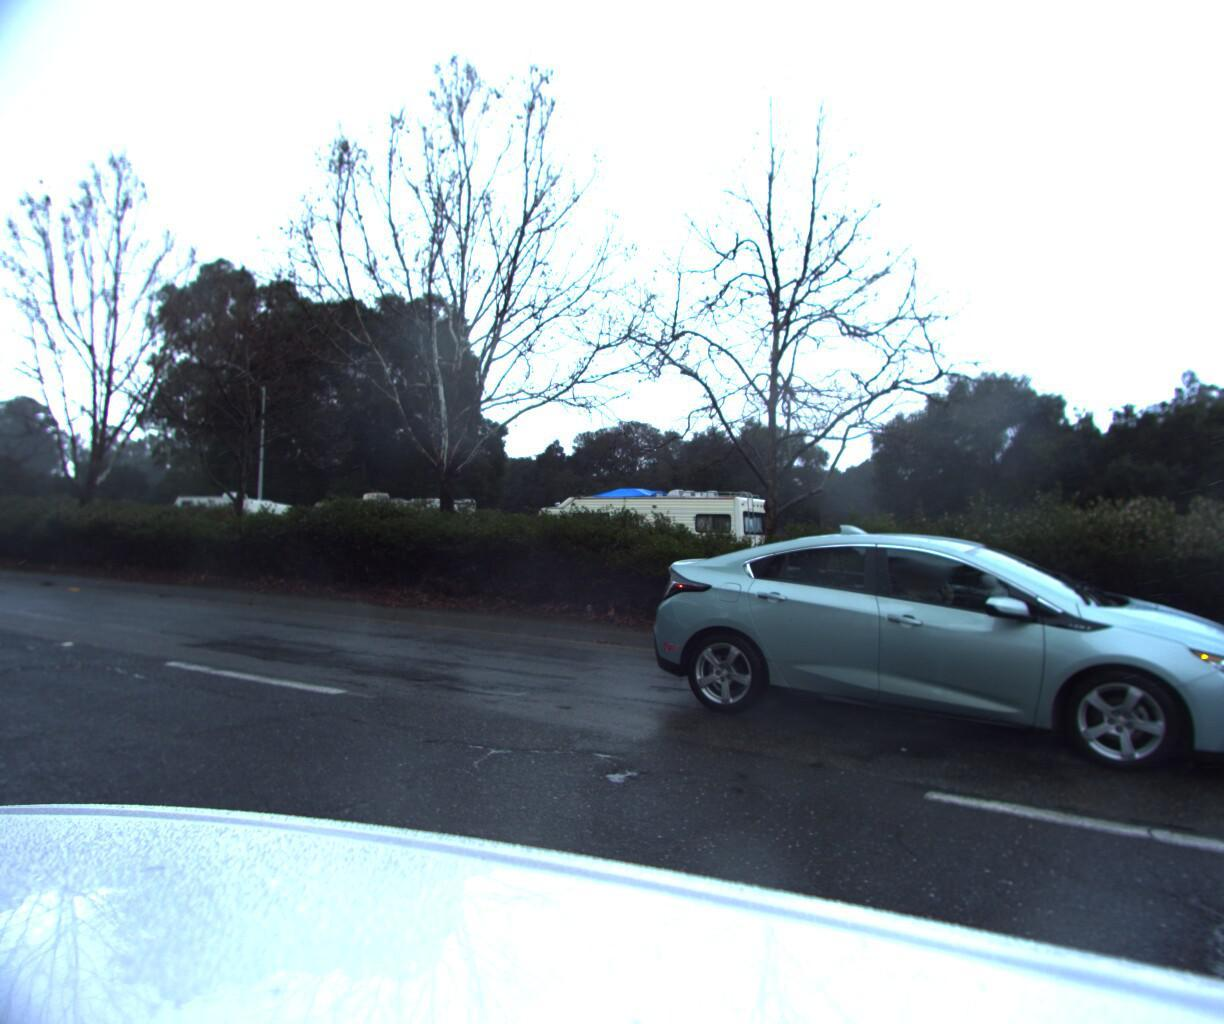car: (628, 513, 1224, 783)
other_vehicle: (506, 480, 780, 600), (291, 490, 479, 575), (160, 491, 293, 564)
